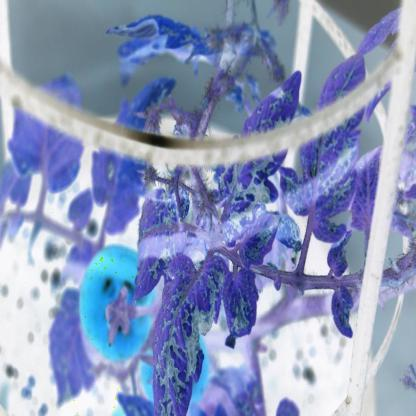Tomato leaf late blight: (284, 53, 368, 256), (219, 61, 310, 224), (150, 239, 232, 410), (134, 182, 186, 300), (224, 263, 260, 349)
